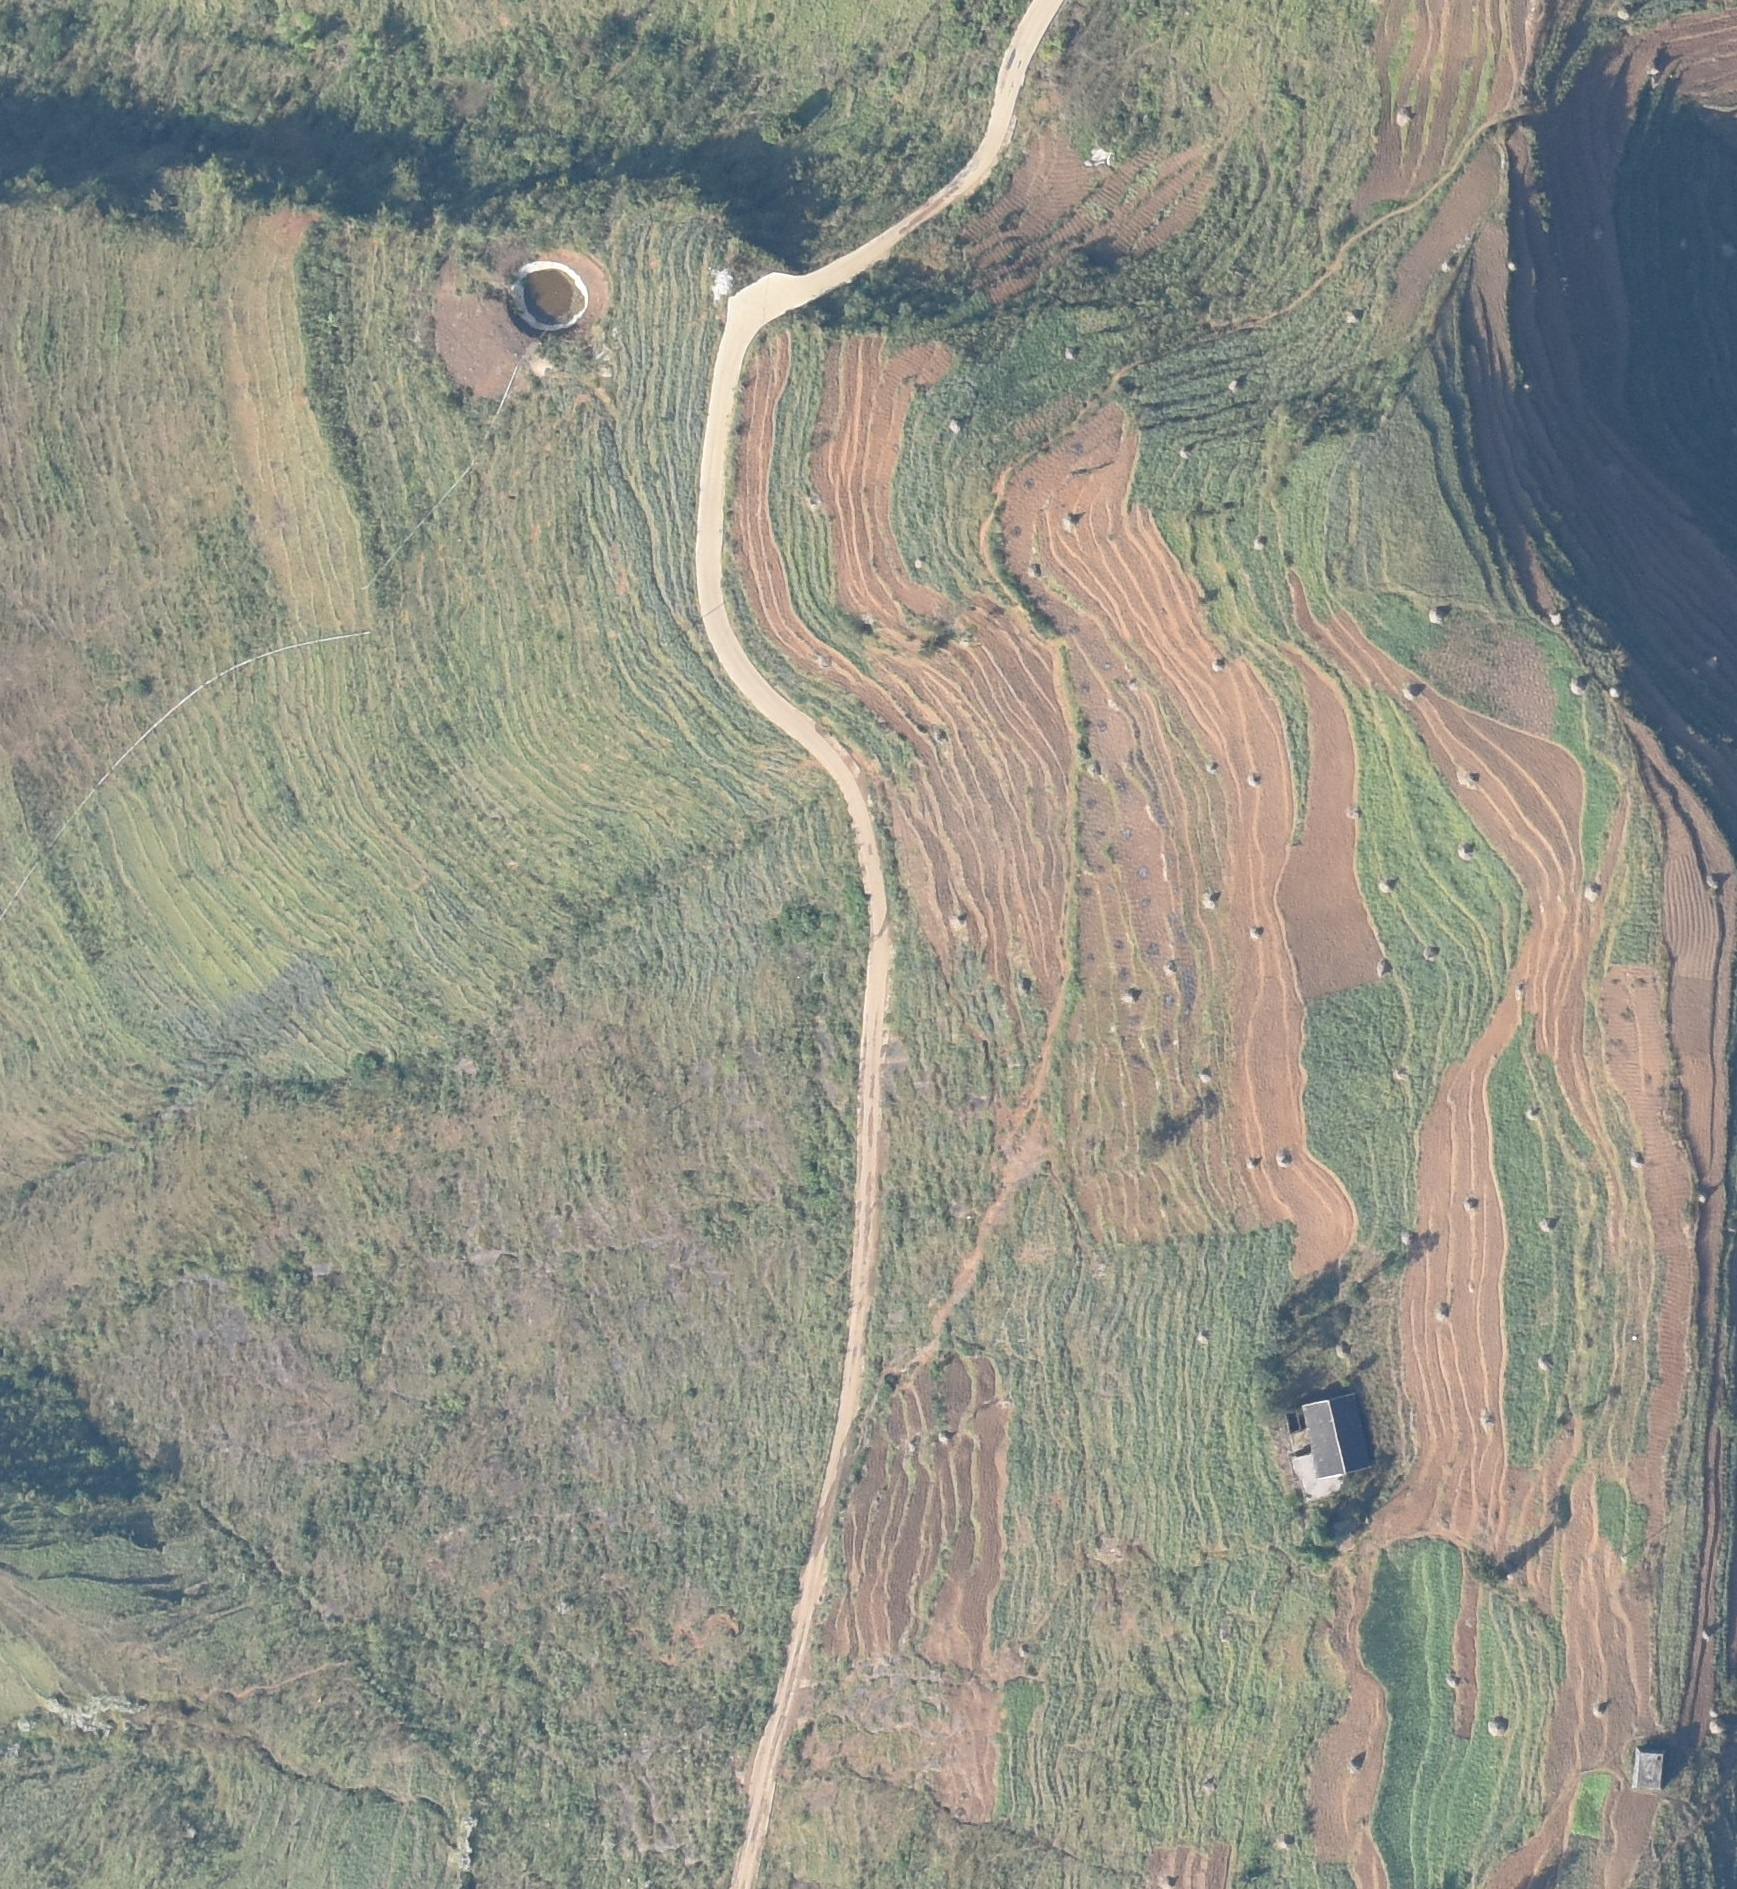building: (1288, 1394, 1369, 1500), (1632, 1744, 1667, 1791)
pool: (522, 269, 580, 326)
